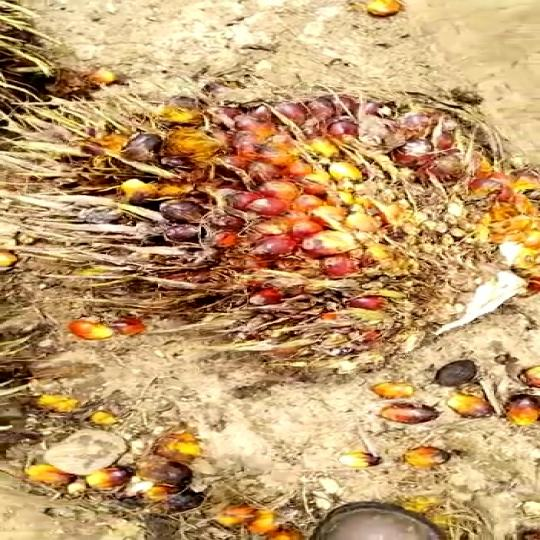masak: (35, 87, 540, 390)
